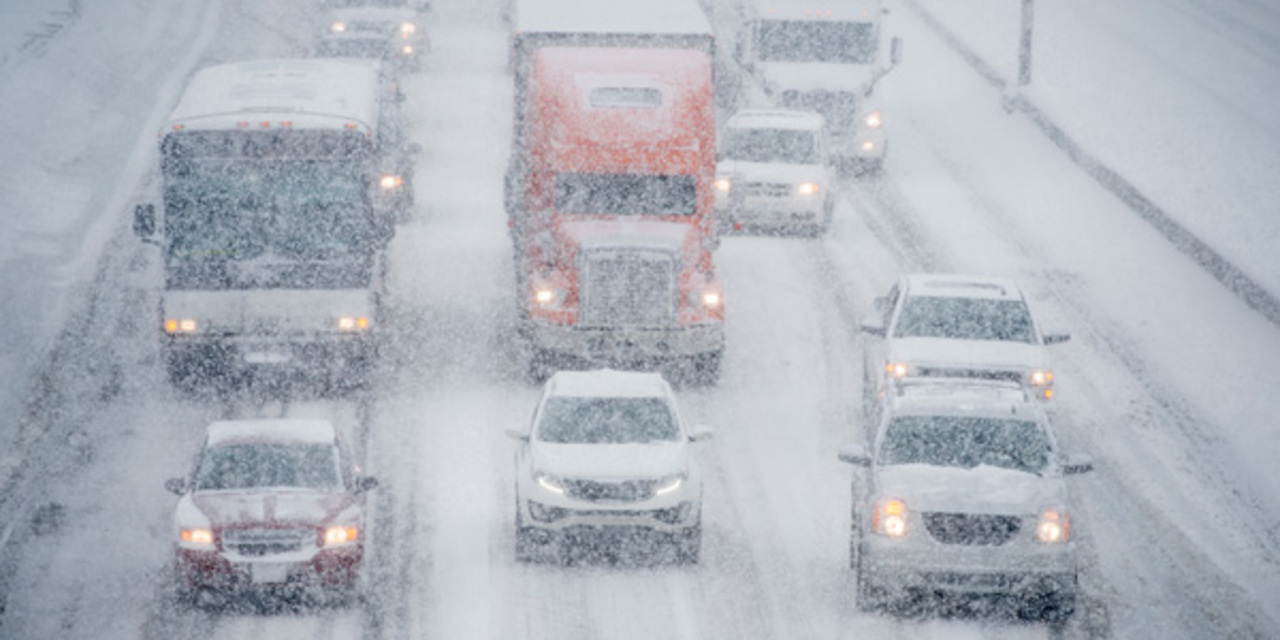bus: (165, 59, 379, 380)
car: (848, 386, 1087, 620), (504, 372, 711, 564), (169, 420, 380, 603), (857, 278, 1060, 423), (712, 110, 840, 237), (326, 5, 424, 57), (382, 129, 407, 236)
truck: (517, 40, 727, 388), (720, 5, 888, 166)
